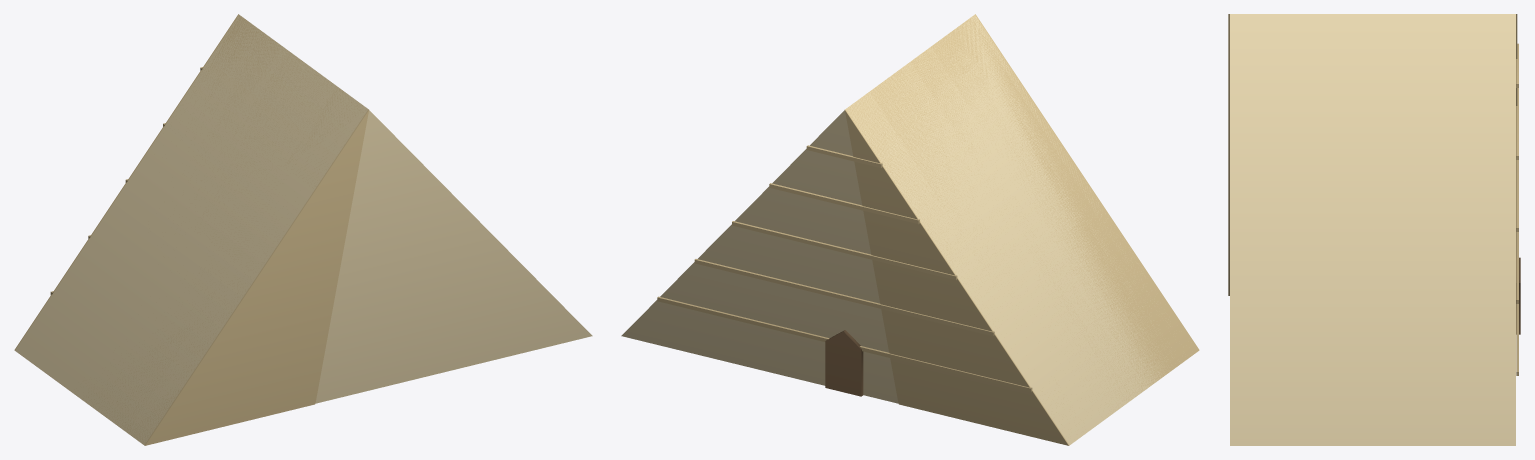
File: Desert_Pyramid1.fbx
3 views of the same model, side by side, from view 1: azimuth 30°, elevation 25°; view 2: azimuth 150°, elevation 25°; view 3: azimuth 270°, elevation 25° (orthographic). The views are drawn at different scales.
Parts seen in each view (by area): view 1: Desert_Pyramid1; view 2: Desert_Pyramid1; view 3: Desert_Pyramid1.
Part boxes in pixels (x1,y1,x2,y2): Desert_Pyramid1: (14, 14, 592, 445); Desert_Pyramid1: (621, 14, 1199, 445); Desert_Pyramid1: (1228, 14, 1520, 445).
Size of the model in its own units: 10 by 6 by 5.11.
